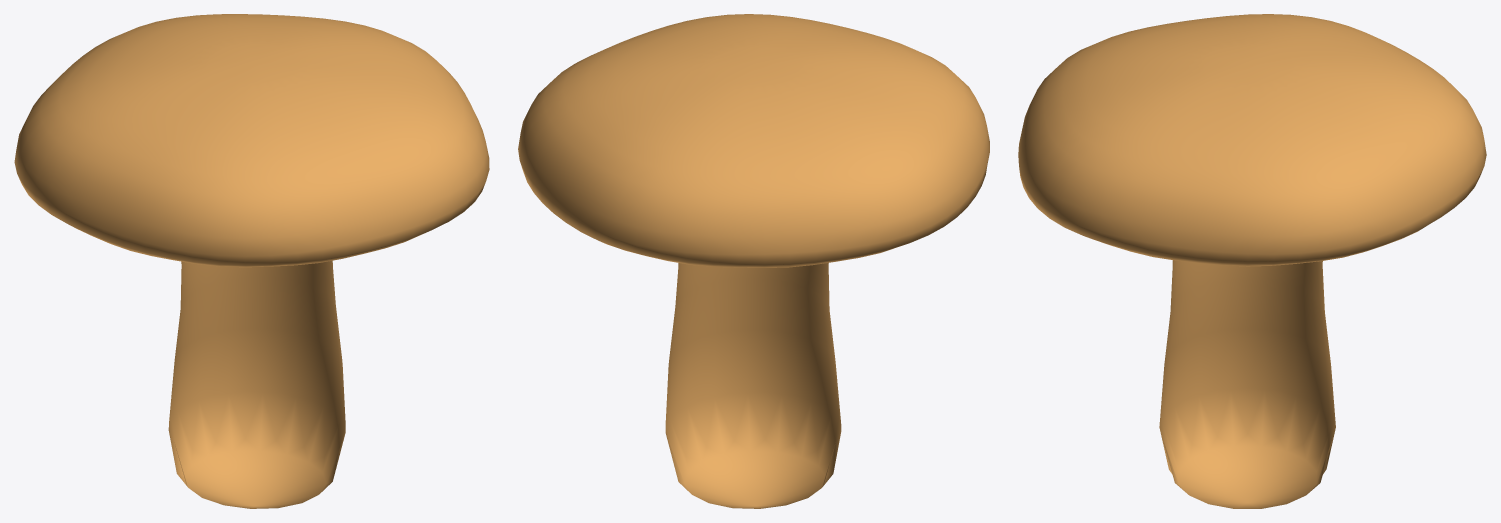
The model's file is mushroom_cap_step.glb.
3 views of the same model, side by side, from view 1: azimuth 30°, elevation 25°; view 2: azimuth 150°, elevation 25°; view 3: azimuth 270°, elevation 25° (orthographic).
Parts seen in each view (by area): view 1: SM_Forest_MushroomCap_Step; view 2: SM_Forest_MushroomCap_Step; view 3: SM_Forest_MushroomCap_Step.
Boxes of the visible parts, left/top/right/bottom form: SM_Forest_MushroomCap_Step: left=14, top=14, right=489, bottom=508; SM_Forest_MushroomCap_Step: left=518, top=14, right=989, bottom=508; SM_Forest_MushroomCap_Step: left=1018, top=14, right=1486, bottom=508.
Bounding box in the file's own units: 1.14 × 1.17 × 1.13.
